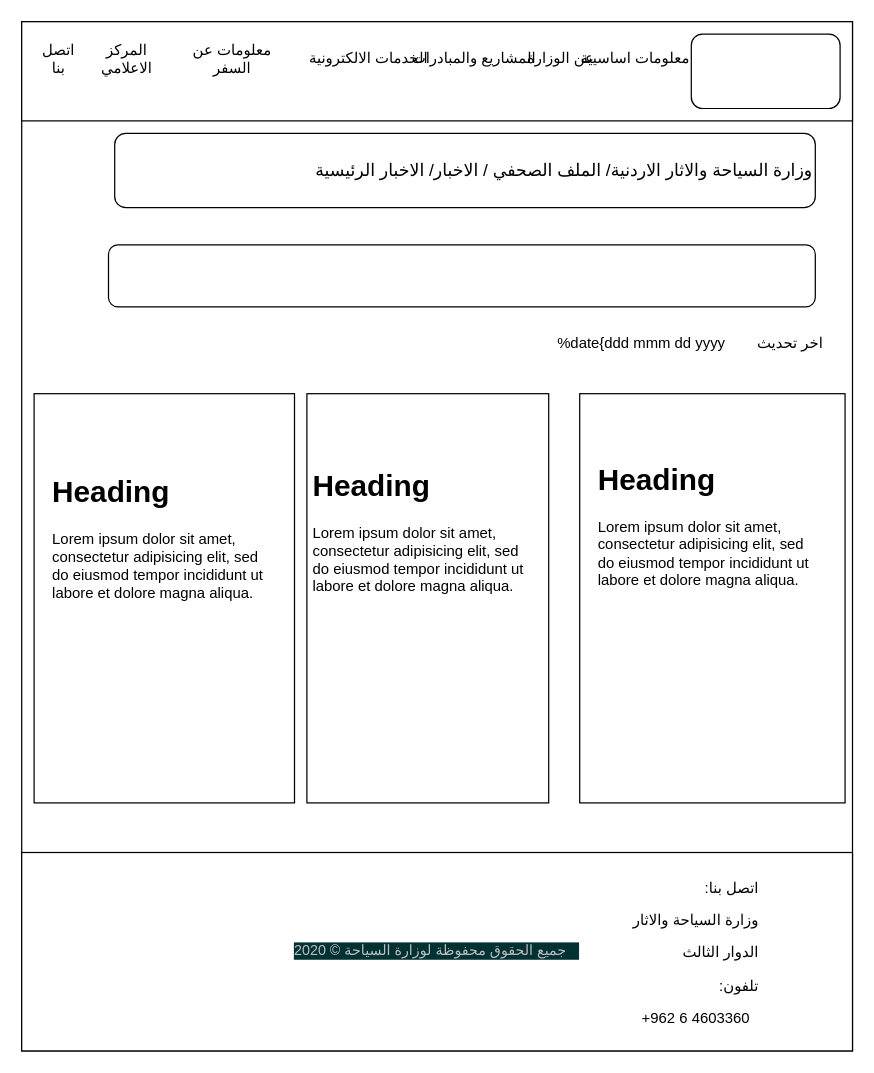
The diagram is 874 pixels wide and 1073 high, and some of its shapes have lost their labels. The centre of each missing label's shape, as x and y in pixels:
Logo وزارة السياحة والاثار: [765,70]
أرشيف الأخبار: [461,275]
